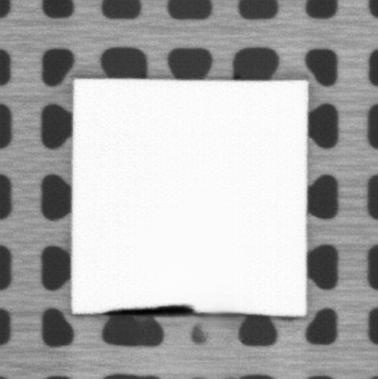DIE_BROKEN: (99, 303, 196, 318)
